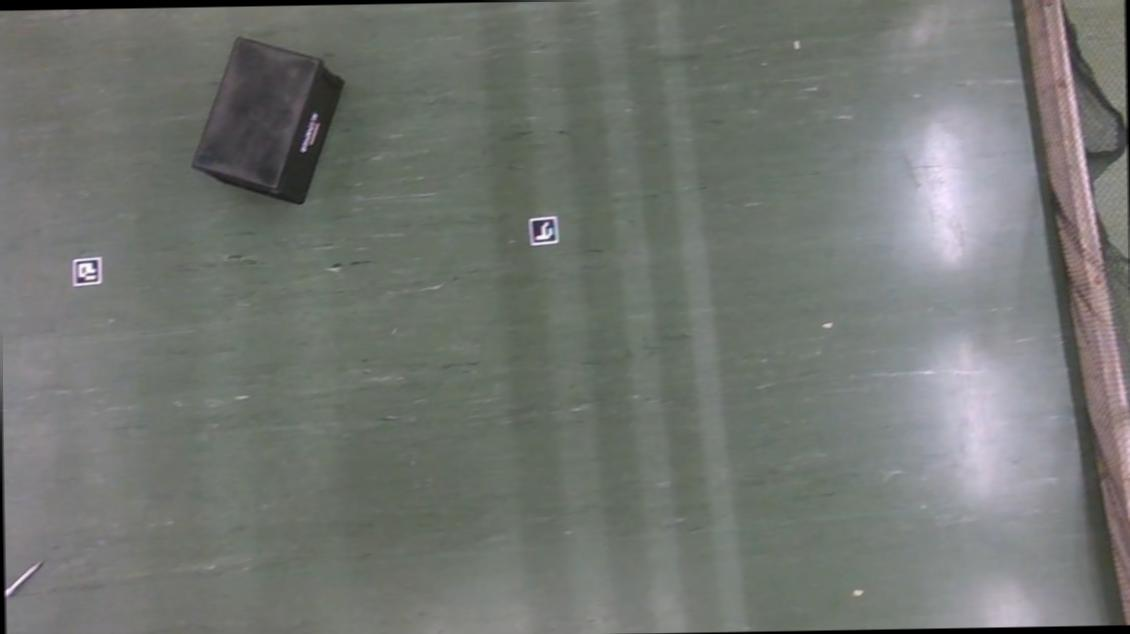probes: (4, 560, 42, 598)
rako: (192, 36, 343, 203)
